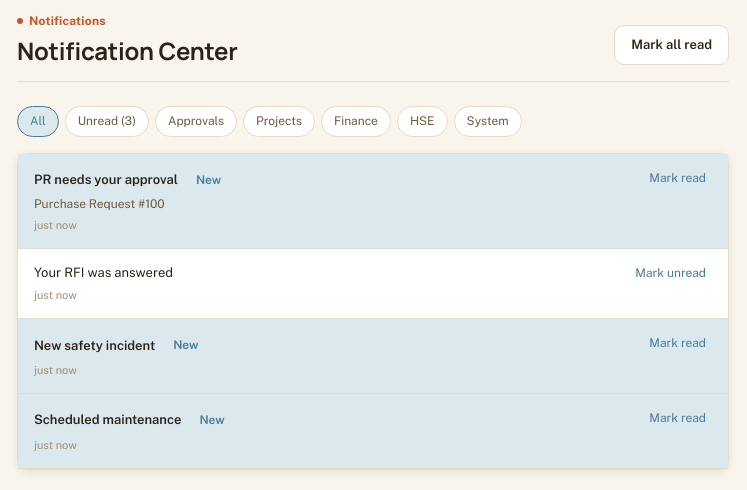
Test: NotificationCenterPage › filters to real HSE only via the real hse.* category derivation
expect the text "New safety incident" is shown: met, box [34,336,155,356]
Click the tab "HSE".
click(422, 122)  # box [397,106,448,137]
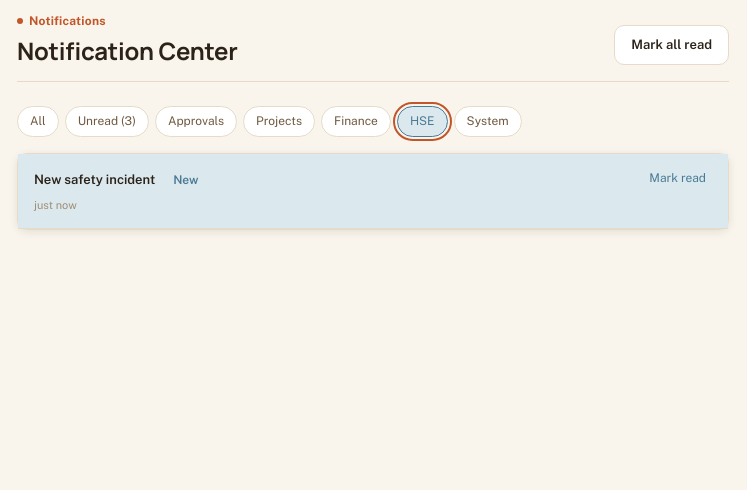
expect the text "New safety incident" is shown: met, box [34,170,155,190]
expect the text "PR needs your approval" is gone: met
